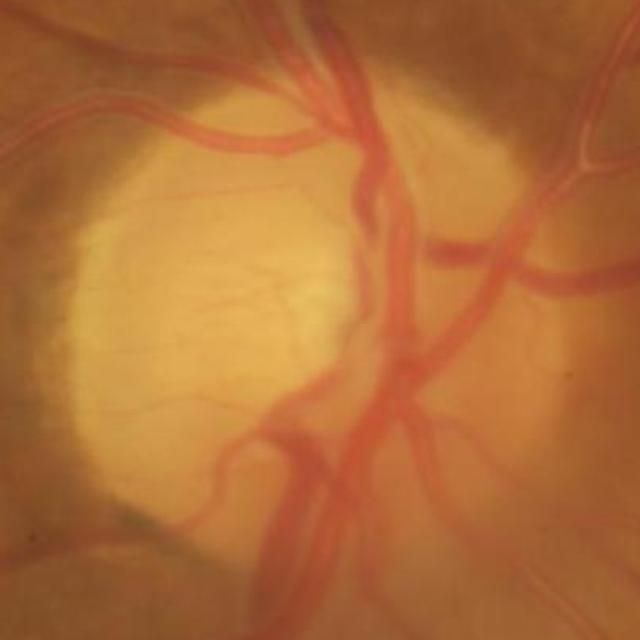OC: (282, 202, 406, 388)
OD: (62, 44, 584, 574)
